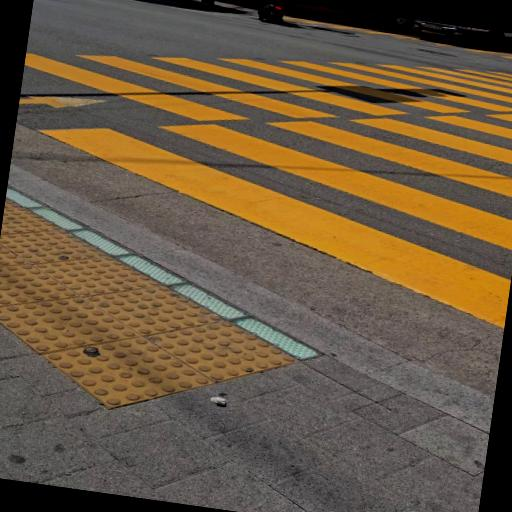yellow-crosswalk: (0, 0, 512, 345)
